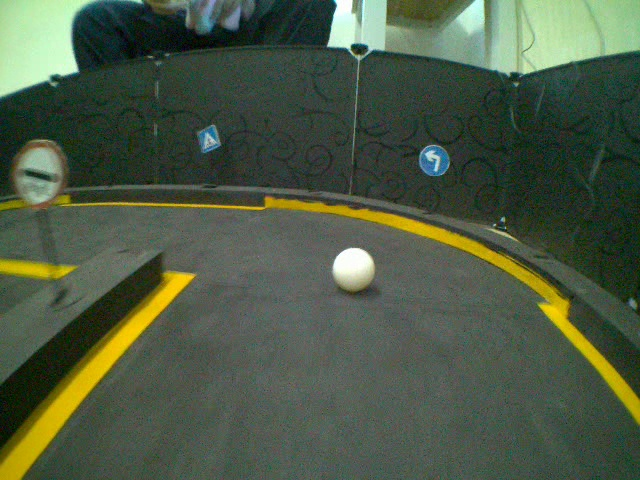ball: (331, 244, 375, 294)
